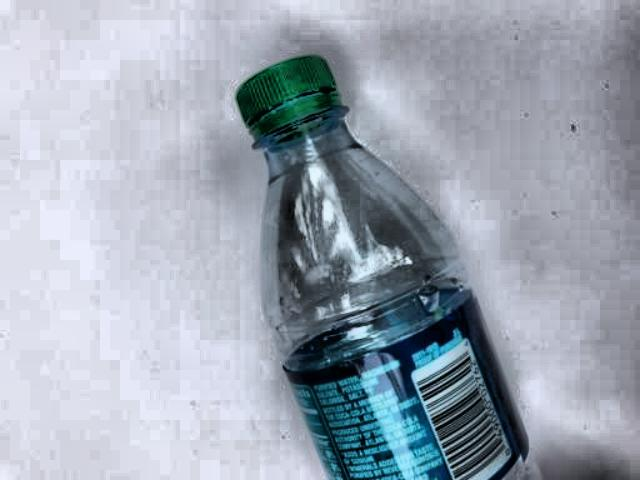Bottles: (223, 43, 549, 480)
